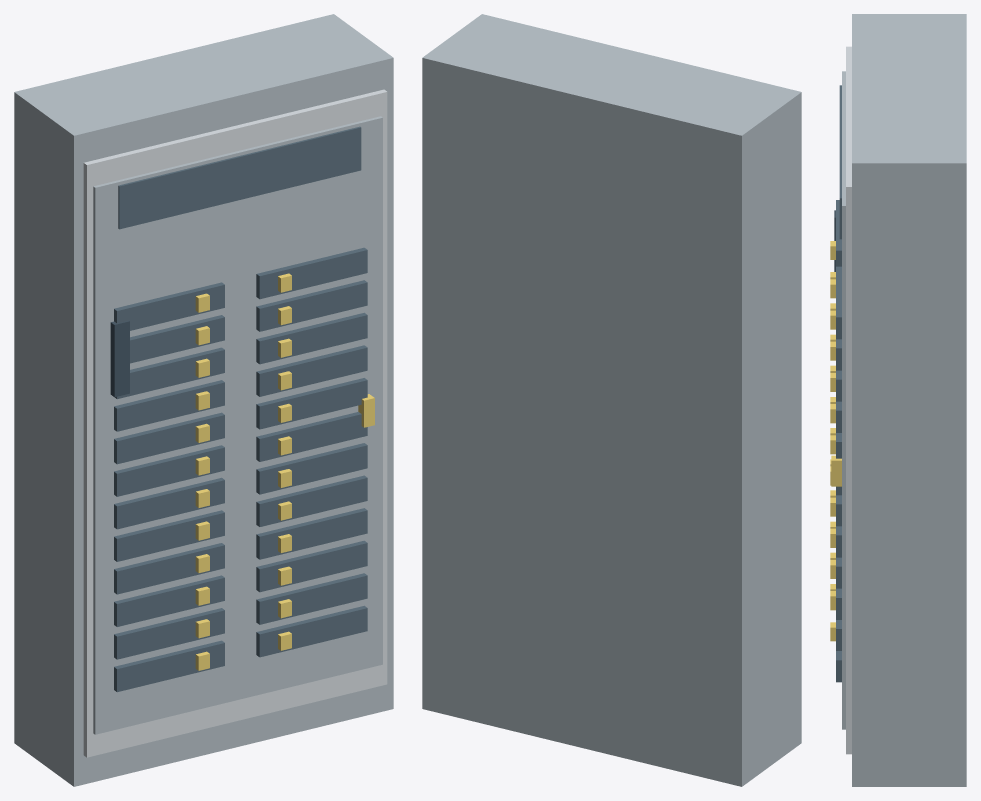
File: panelboard-full.glb
3 views of the same model, side by side, from view 1: azimuth 30°, elevation 25°; view 2: azimuth 150°, elevation 25°; view 3: azimuth 270°, elevation 25° (orthographic). The views are drawn at different scales.
Parts seen in each view (by area): view 1: panelboard-full; view 2: panelboard-full; view 3: panelboard-full.
Part boxes in pixels (x1=…): panelboard-full: x1=14, y1=14, x2=393, y2=786; panelboard-full: x1=422, y1=14, x2=801, y2=786; panelboard-full: x1=830, y1=14, x2=966, y2=786.
Bounding box in the file's own units: 0.74 × 1.44 × 0.286.
